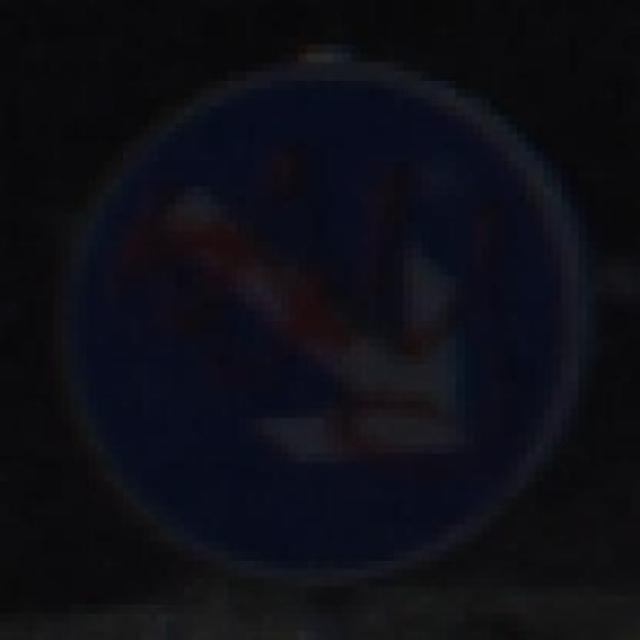Keep-Right: (35, 45, 614, 604)
